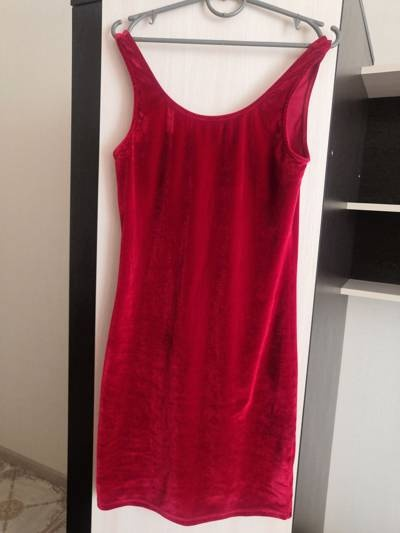Dress: (80, 12, 342, 525)
